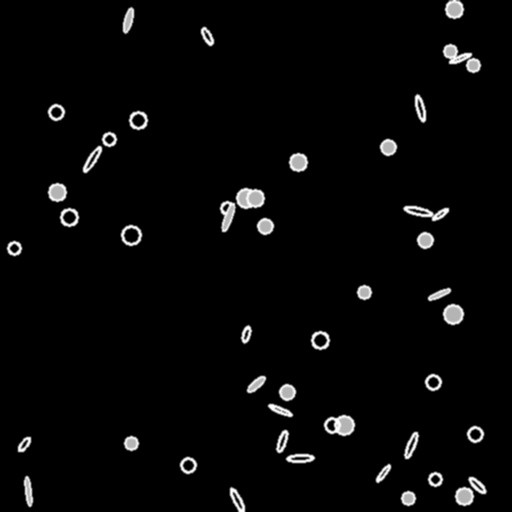pseudomonas: (81, 145, 103, 173), (228, 487, 246, 512), (220, 203, 236, 231), (403, 204, 433, 218), (403, 432, 419, 458), (246, 374, 266, 394), (467, 475, 487, 495), (413, 95, 427, 121), (374, 463, 392, 483), (268, 403, 292, 417), (428, 287, 450, 301), (122, 8, 134, 32), (276, 430, 288, 452), (449, 52, 471, 64), (200, 27, 214, 45), (431, 207, 449, 221), (24, 477, 32, 505), (17, 436, 31, 452), (240, 325, 252, 343), (286, 455, 314, 461)
synechocystis: (335, 416, 353, 434), (237, 189, 255, 207), (444, 305, 462, 323), (122, 226, 140, 244), (312, 332, 328, 348), (290, 154, 306, 170), (247, 190, 263, 206), (456, 488, 472, 504), (61, 209, 77, 225), (130, 112, 146, 128), (446, 1, 462, 17), (49, 184, 65, 200), (381, 140, 395, 154), (258, 219, 272, 233), (468, 427, 482, 441), (418, 233, 432, 247), (49, 105, 63, 119), (426, 375, 440, 389), (325, 418, 339, 432), (280, 385, 294, 399), (181, 458, 195, 472), (221, 202, 233, 214), (8, 242, 20, 254), (467, 59, 479, 71), (402, 492, 414, 504), (429, 473, 441, 485), (103, 133, 115, 145), (358, 286, 370, 298), (125, 437, 137, 449), (444, 45, 456, 57)
